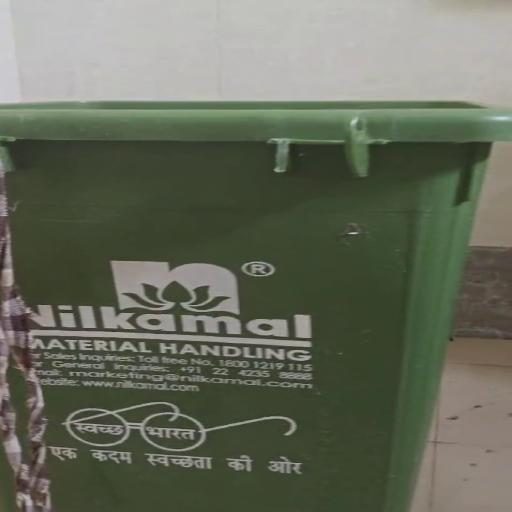Nilkamal-dustbin-detection: (0, 102, 511, 511)
